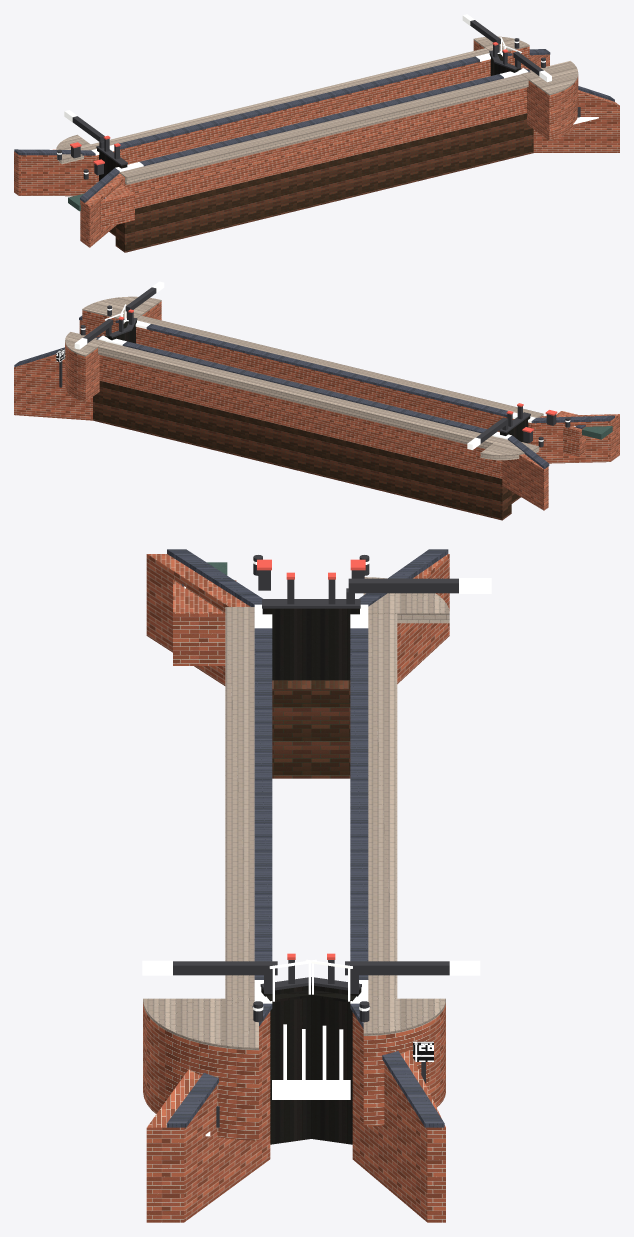
The model's file is lock-28.glb.
3 renders of one model, top to bottom at view 1: azimuth 30°, elevation 25°; view 2: azimuth 150°, elevation 25°; view 3: azimuth 270°, elevation 25°, orthographic. The views are drawn at different scales.
Visible parts, largest first — view 1: Chamber, ChamberWet, Edge, Coping.001, TopGateCap, Coping, TopGate; view 2: Chamber, ChamberWet, Edge, Coping.001, TopGateCap, Coping, TopGate; view 3: Chamber, Edge, Coping.001, TopGate, TopGateCap, ChamberWet, Coping, Leak.
Boxes of the visible parts, bbox=[...] form: Chamber: bbox=[14, 40, 619, 247]; ChamberWet: bbox=[109, 113, 533, 252]; Edge: bbox=[56, 36, 578, 184]; Coping.001: bbox=[14, 49, 614, 202]; TopGateCap: bbox=[57, 20, 580, 179]; Coping: bbox=[57, 14, 551, 174]; TopGate: bbox=[97, 53, 521, 180]; Chamber: bbox=[14, 301, 619, 510]; ChamberWet: bbox=[93, 381, 520, 520]; Edge: bbox=[65, 296, 543, 460]; Coping.001: bbox=[14, 315, 614, 468]; TopGateCap: bbox=[59, 287, 570, 447]; Coping: bbox=[74, 281, 570, 449]; TopGate: bbox=[105, 321, 530, 443]; Chamber: bbox=[143, 554, 449, 1222]; Edge: bbox=[143, 577, 449, 1049]; Coping.001: bbox=[167, 549, 448, 1127]; TopGate: bbox=[261, 608, 361, 1144]; TopGateCap: bbox=[173, 555, 458, 1127]; ChamberWet: bbox=[272, 680, 350, 778]; Coping: bbox=[142, 560, 491, 1011]; Leak: bbox=[184, 586, 350, 1136].
Bounding box in the file's own units: 32.83 × 5.67 × 9.34.
Materials: 11 (8 with a texture image).
